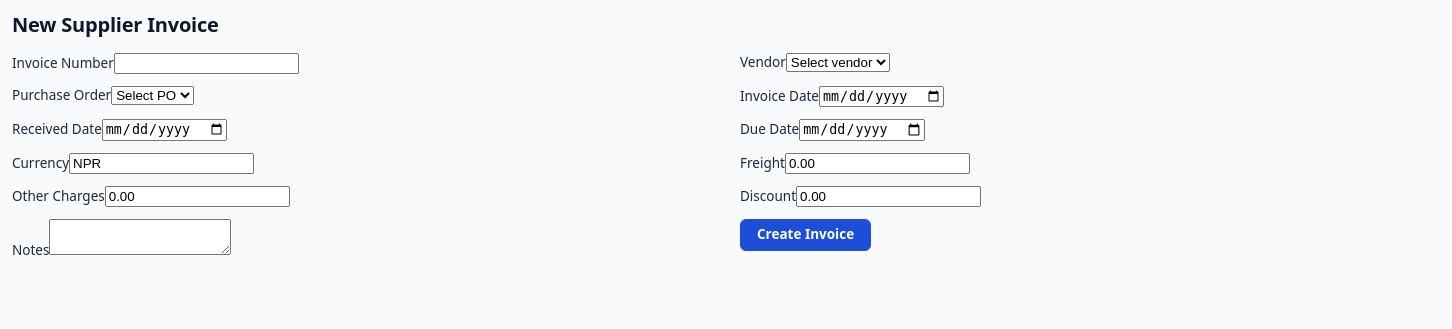
Test case: P3 invoice create › shows a permission message and prevents double submission
Type "INV-2" into the field labelled "Invoice Number". click: coordinates (206, 64)
box: 114,53 -> 299,74
Select "Acme" in the dropdown labelled "Vendor". click: coordinates (838, 62)
box: 786,53 -> 890,72
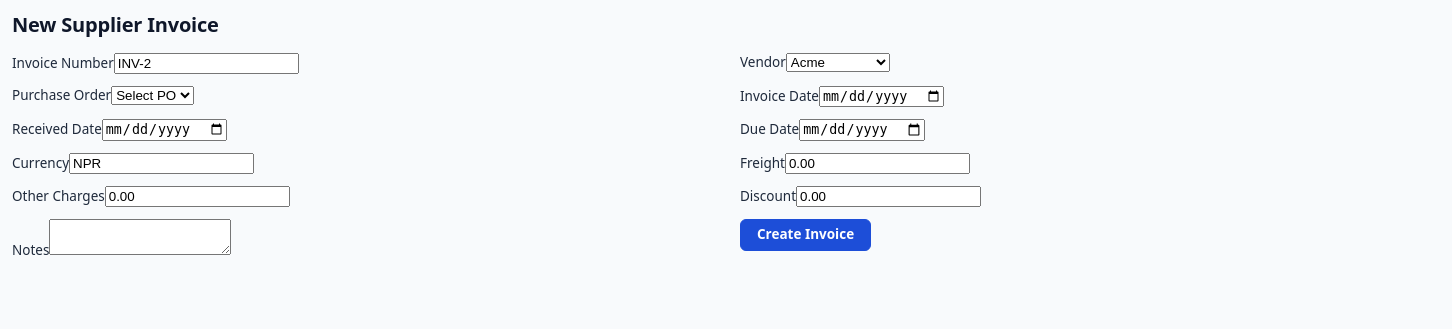
Select "PO-5 - 2" in the dropdown labelled "Purchase Order". click: coordinates (153, 96)
box: 111,86 -> 194,105
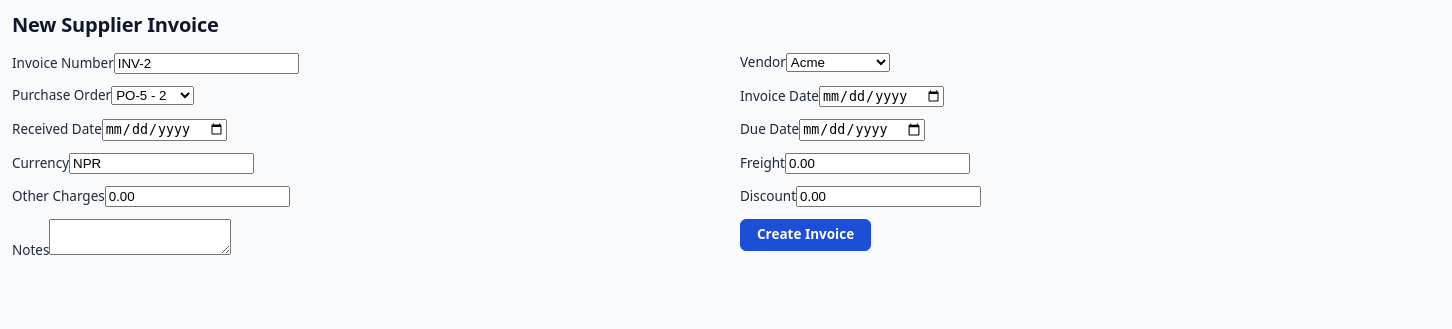
Type "2026-11-10" into the date field labelled "Invoice Date". click: coordinates (882, 97)
box: 819,86 -> 944,107
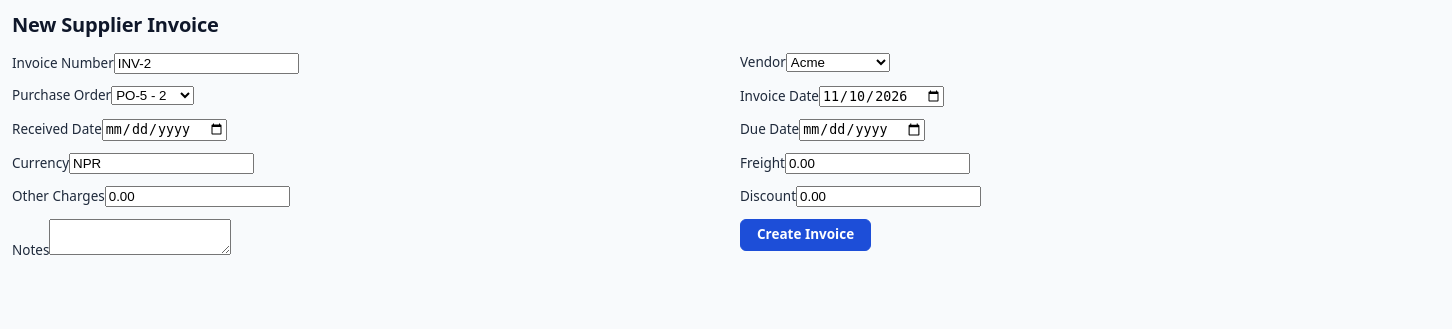
Type "2026-11-11" into the date field labelled "Received Date". click: coordinates (164, 130)
box: 102,119 -> 227,141
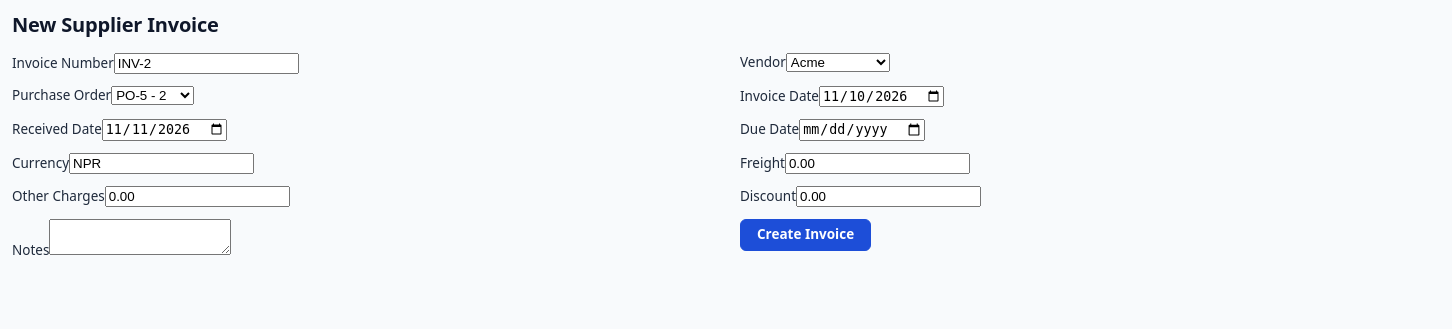
Click the button "Create Invoice". click: coordinates (806, 235)
box: 740,219 -> 871,251
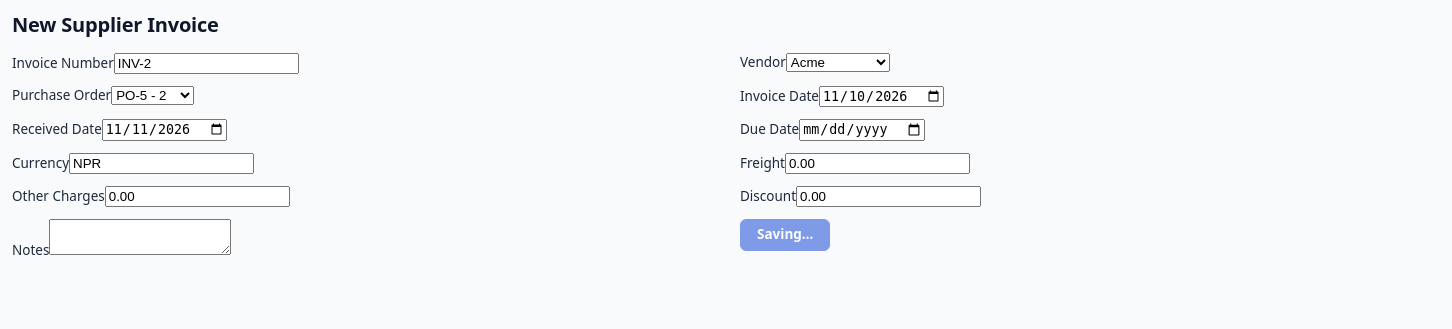
Click the button named "Create Invoice". click: coordinates (785, 235)
box: 740,219 -> 830,251
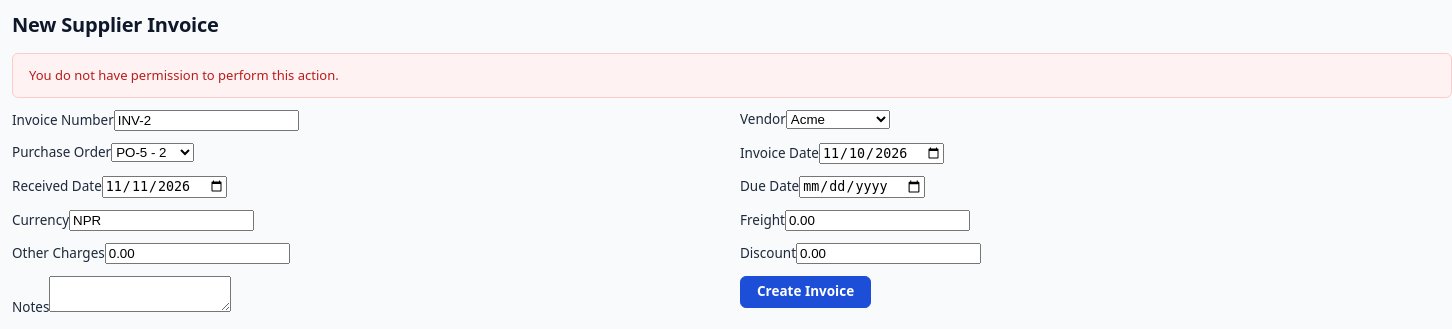
Check: the message "You do not have permission to perform this action." is shown, box 12,53 -> 1451,98
Check: the message shows "You do not have permission", box 29,66 -> 339,84
